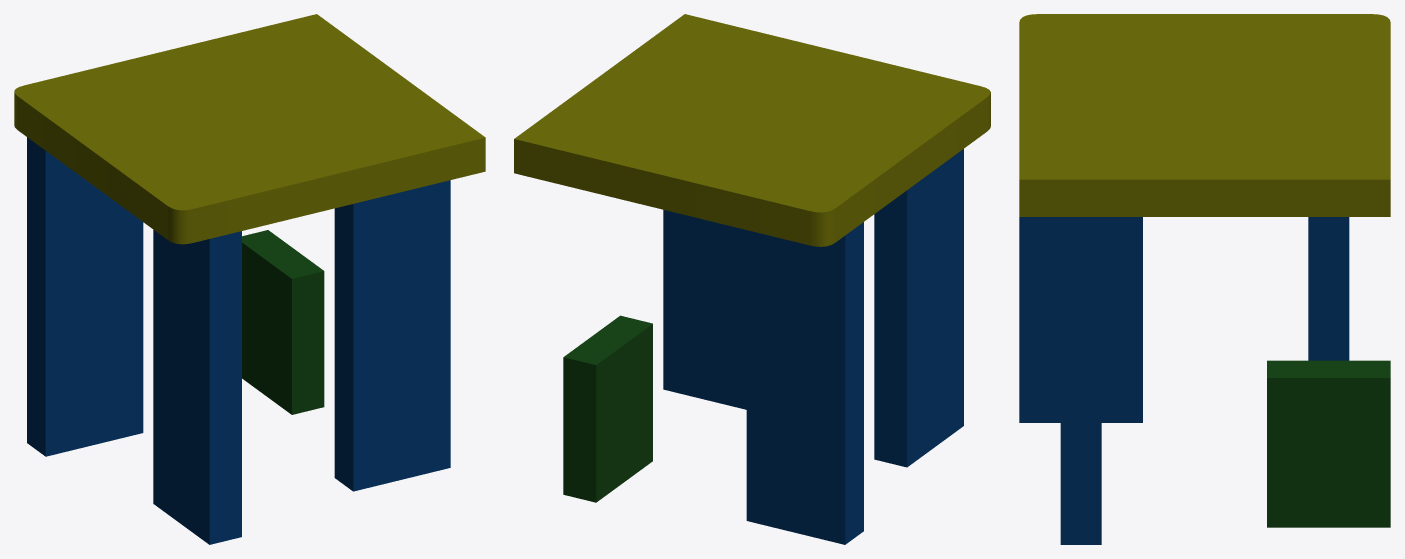
File: T0DirB.fbx
3 renders of one model, left to right at view 1: azimuth 30°, elevation 25°; view 2: azimuth 150°, elevation 25°; view 3: azimuth 270°, elevation 25°, orthographic. The views are drawn at different scales.
Visible parts, largest first — view 1: 1, 3, 4, 2; view 2: 4, 3, 2, 1; view 3: 2, 1, 3, 4.
Boxes of the visible parts, box(x1,y1,x2,y2) form: 1: box(247, 76, 485, 491); 3: box(92, 113, 331, 544); 4: box(14, 51, 246, 456); 2: box(163, 14, 400, 414); 4: box(670, 114, 911, 544); 3: box(756, 52, 990, 467); 2: box(514, 76, 754, 502); 1: box(600, 14, 840, 409); 2: box(1205, 97, 1390, 527); 1: box(1019, 97, 1204, 544); 3: box(1019, 14, 1204, 422); 4: box(1205, 14, 1390, 360).
Size of the model in its own units: 190 by 200 by 180.
